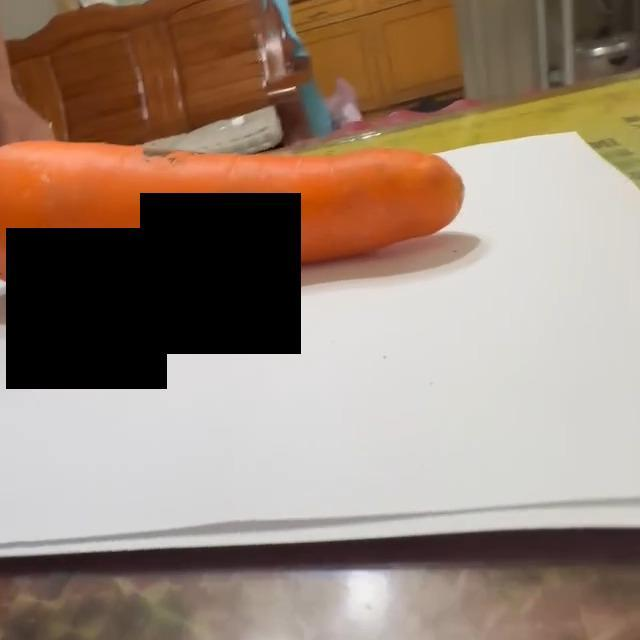carrot: (1, 141, 467, 296)
